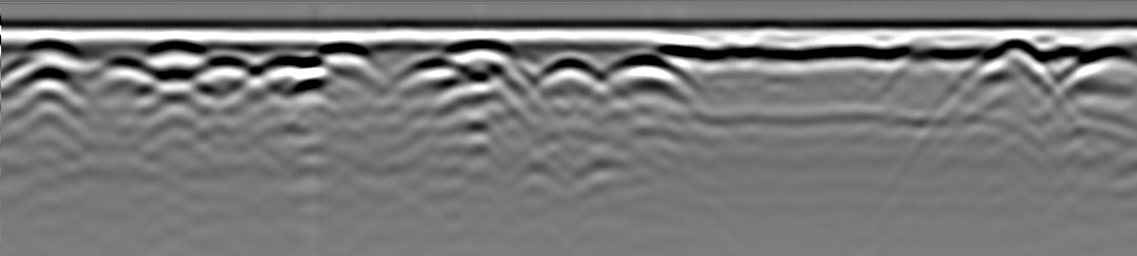pipe: (142, 37, 204, 78), (315, 40, 382, 76), (19, 37, 88, 71), (450, 37, 512, 71), (988, 36, 1042, 75)
steel: (609, 50, 689, 90), (1067, 47, 1136, 86), (535, 54, 605, 88), (260, 54, 324, 88), (193, 51, 257, 85), (96, 55, 154, 90), (402, 54, 458, 88)
